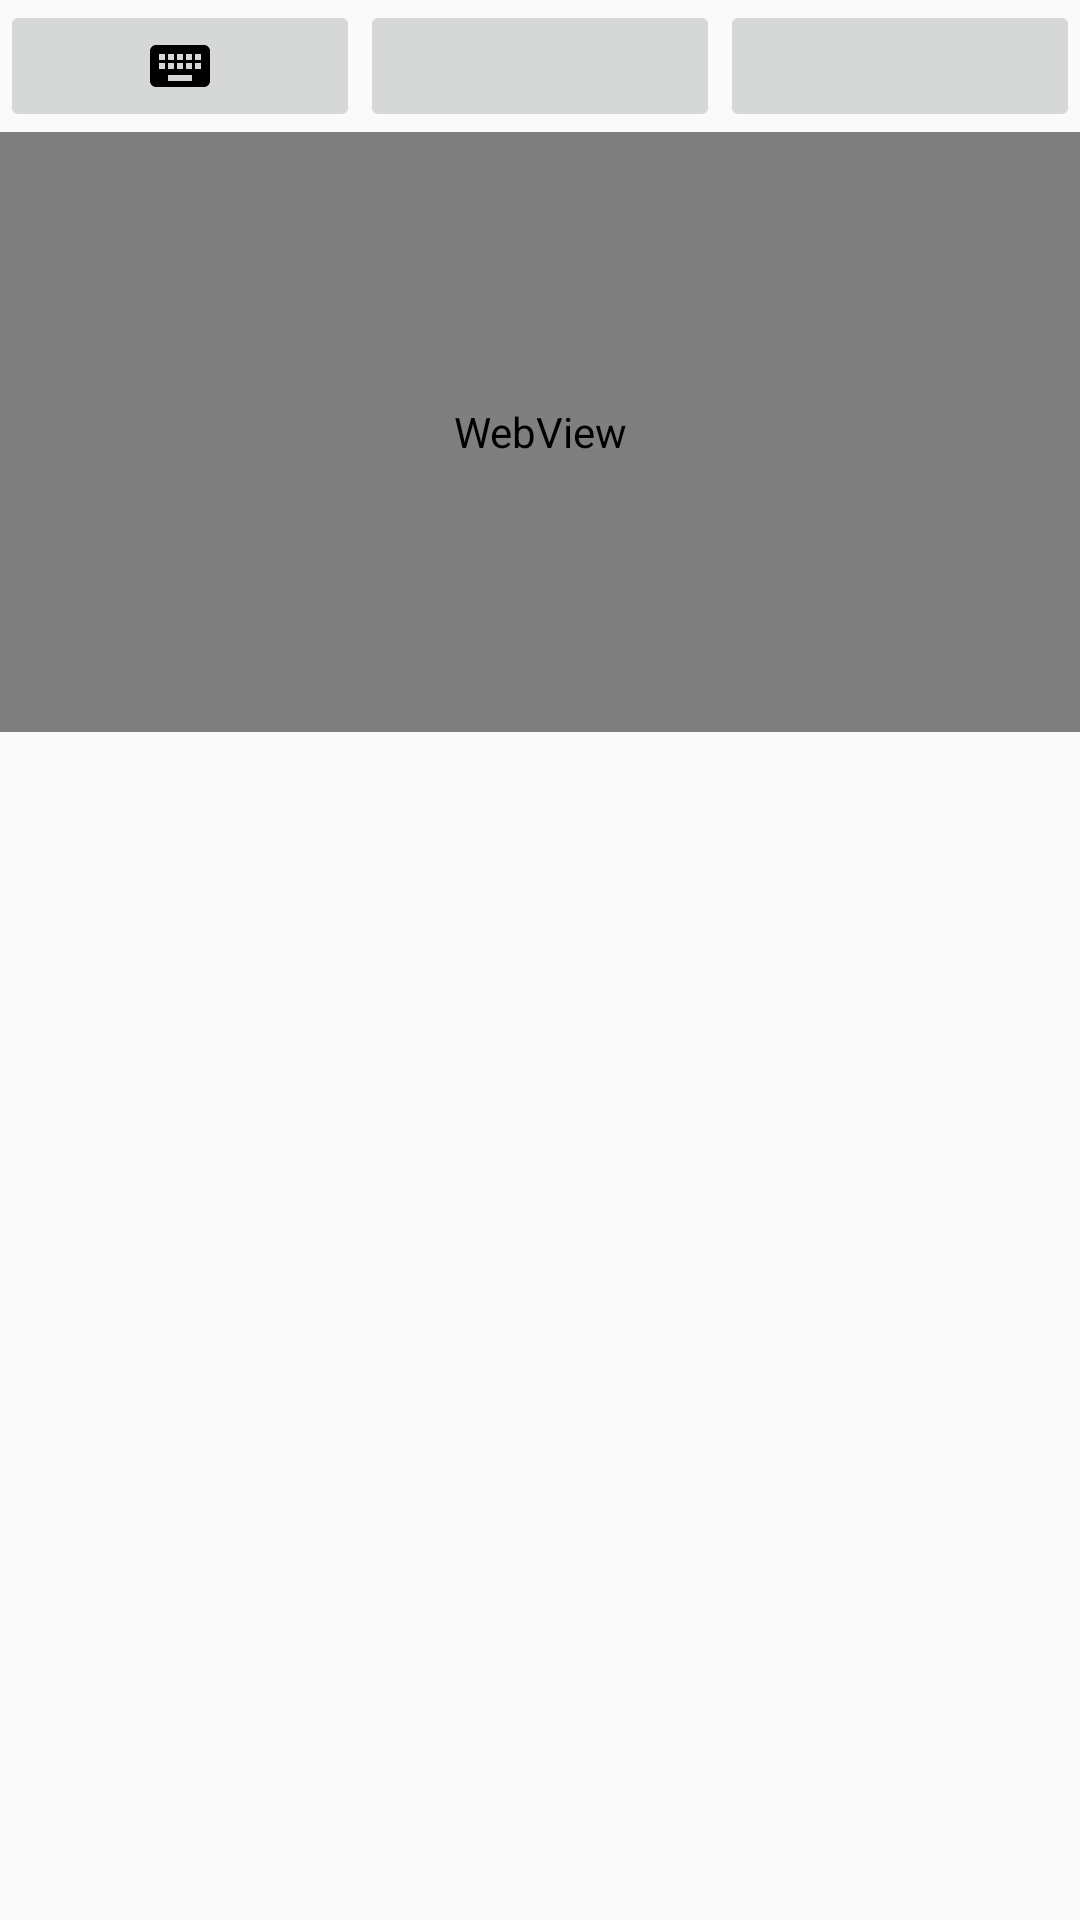

Icon click points for this 1080x1920 phone screenshot, format [x,y]:
keyboard: [180,66]
